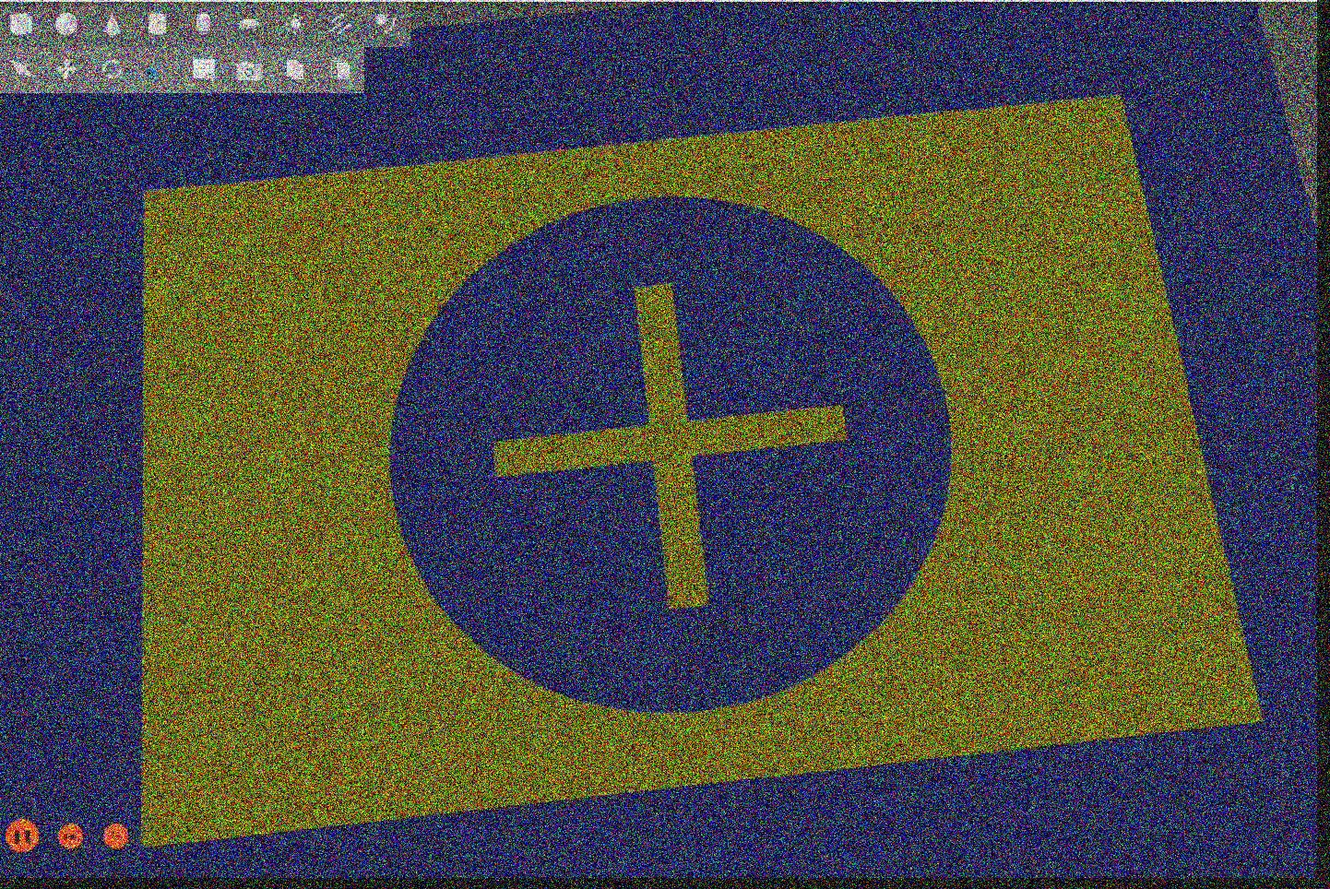large_base: (1, 3, 1317, 883)
